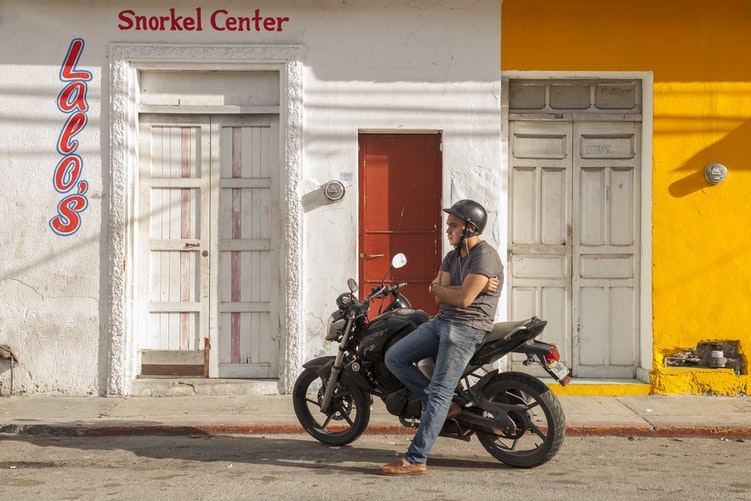helmet: (447, 199, 491, 233)
